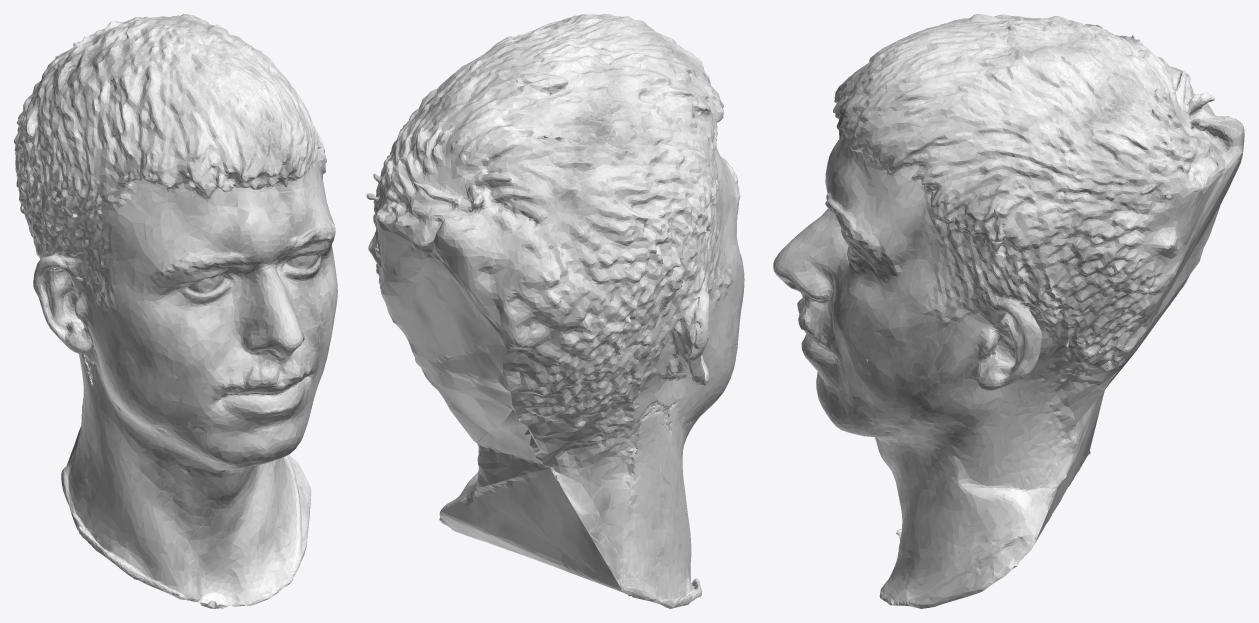
Rendered from josch50k4.glb.
The picture shows the model from 3 angles, left to right: view 1: azimuth 30°, elevation 25°; view 2: azimuth 150°, elevation 25°; view 3: azimuth 270°, elevation 25°; orthographic projection. The views are drawn at different scales.
Parts seen in each view (by area): view 1: josch3; view 2: josch3; view 3: josch3.
Part boxes in pixels (bbox=[...]): josch3: bbox=[14, 14, 337, 608]; josch3: bbox=[366, 14, 744, 608]; josch3: bbox=[773, 14, 1244, 608].
Bounding box in the file's own units: 0.1892 × 0.3448 × 0.2612.
Materials: 1 (1 with a texture image).
